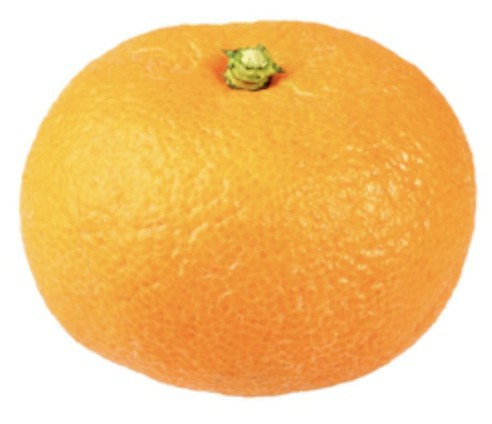fresh_orange: (20, 19, 479, 393)
